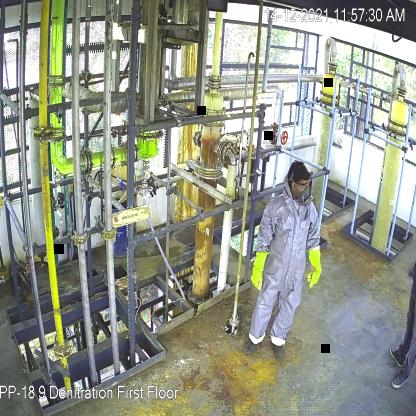mask: (298, 187, 314, 208)
